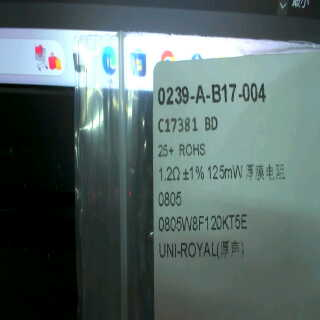1.2R: (155, 165, 183, 213)
